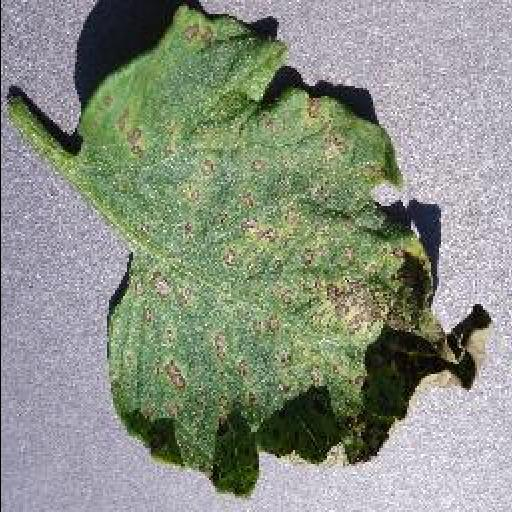disease_tomato: (74, 11, 494, 496)
